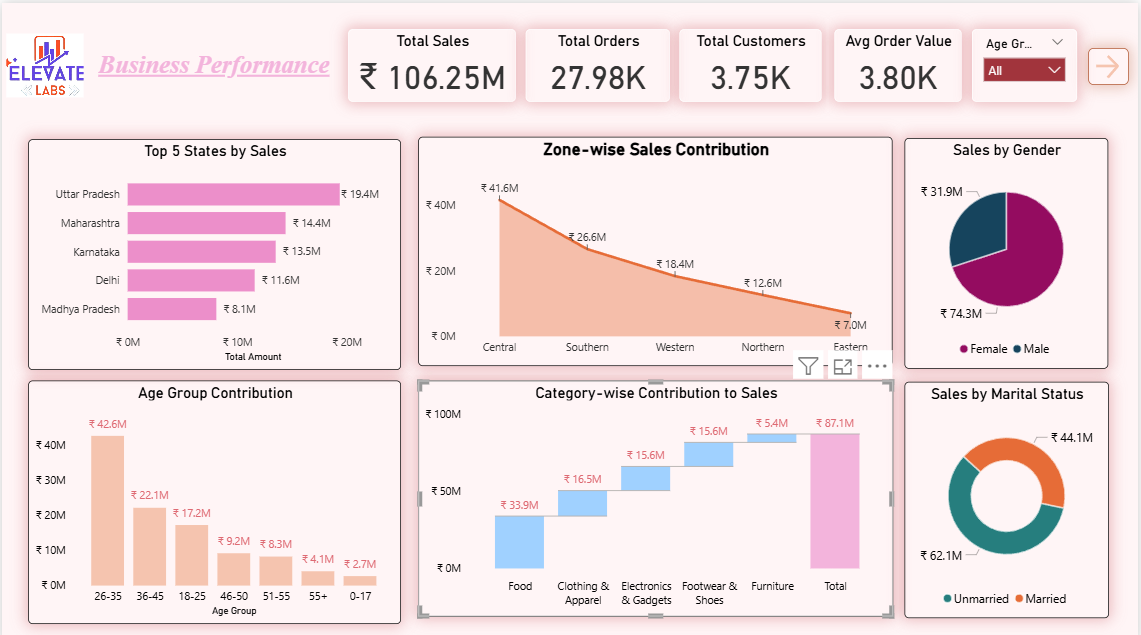

The dashboard page shown, as its layout file describes it:
{"tool":"powerbi","page":{"name":" Business Performance","canvas":[1280,720],"ordinal":0},"visuals":[{"type":"card","title":"Total Sales","fields":{"Values":["Sum(Diwali Sales Data.Amount)"]},"box":[390.3,29.2,188.9,81.9],"z":0},{"type":"card","title":"Total Orders","fields":{"Values":["Sum(Diwali Sales Data.Orders)"]},"box":[590.3,29.2,162.5,81.9],"z":1000},{"type":"card","title":"Total Customers","fields":{"Values":["Count(Diwali Sales Data.User_ID)"]},"box":[763.9,29.2,159.7,81.9],"z":2000},{"type":"card","title":"Avg Order Value","fields":{"Values":["Diwali Sales Data.Avg Order Value"]},"box":[937.5,29.2,143.1,81.9],"z":3000},{"type":"donutChart","title":"Sales by Marital Status","fields":{"Category":["Diwali Sales Data.Marital_Status"],"Y":["Sum(Diwali Sales Data.Amount)"]},"box":[1017.3,427.3,230,266.4],"z":4000},{"type":"pieChart","title":"Sales by Gender","fields":{"Category":["Diwali Sales Data.Gender"],"Y":["Sum(Diwali Sales Data.Amount)"]},"box":[1017.4,151.7,229.5,259.7],"z":5000},{"type":"columnChart","title":"Age Group Contribution","fields":{"Category":["Diwali Sales Data.Age Group"],"Y":["Sum(Diwali Sales Data.Amount)"]},"box":[29.2,425,420.2,274.3],"z":6000},{"type":"barChart","title":"Top 5 States by Sales","fields":{"Category":["Diwali Sales Data.State"],"Y":["Sum(Diwali Sales Data.Amount)"]},"box":[29,153,420,259.8],"z":7000},{"type":"waterfallChart","title":"Category-wise Contribution to Sales","fields":{"Category":["Diwali Sales Data.Product_Category"],"Y":["Sum(Diwali Sales Data.Amount)"]},"box":[469,425.4,535.2,266.2],"z":8000},{"type":"areaChart","title":"Zone-wise Sales Contribution","fields":{"Category":["Diwali Sales Data.Zone"],"Y":["Sum(Diwali Sales Data.Amount)"]},"box":[469.4,151.4,534.7,258.3],"z":9000},{"type":"actionButton","box":[1223.3,50,45.3,41.9],"z":10000},{"type":"actionButton","box":[97.2,29.6,283.1,81.7],"z":11000},{"type":"image","box":[0,29.6,97.2,81.7],"z":12000},{"type":"slicer","title":"Avg Order Value","fields":{"Values":["Diwali Sales Data.Age Group"]},"box":[1093.1,29.2,118.1,81.9],"z":13000}]}

Visuals, with their boxes in screenshot pixels (x1, y1, x2, y2), scaled from the page's 1280x720 canvas onto the 1141x635 screenshot:
"Total Sales" card: Rect(348, 26, 516, 98)
"Total Orders" card: Rect(526, 26, 671, 98)
"Total Customers" card: Rect(681, 26, 823, 98)
"Avg Order Value" card: Rect(836, 26, 963, 98)
"Sales by Marital Status" donutChart: Rect(907, 377, 1112, 612)
"Sales by Gender" pieChart: Rect(907, 134, 1111, 363)
"Age Group Contribution" columnChart: Rect(26, 375, 401, 617)
"Top 5 States by Sales" barChart: Rect(26, 135, 400, 364)
"Category-wise Contribution to Sales" waterfallChart: Rect(418, 375, 895, 610)
"Zone-wise Sales Contribution" areaChart: Rect(418, 134, 895, 361)
actionButton: Rect(1090, 44, 1131, 81)
actionButton: Rect(87, 26, 339, 98)
image: Rect(0, 26, 87, 98)
"Avg Order Value" slicer: Rect(974, 26, 1080, 98)
